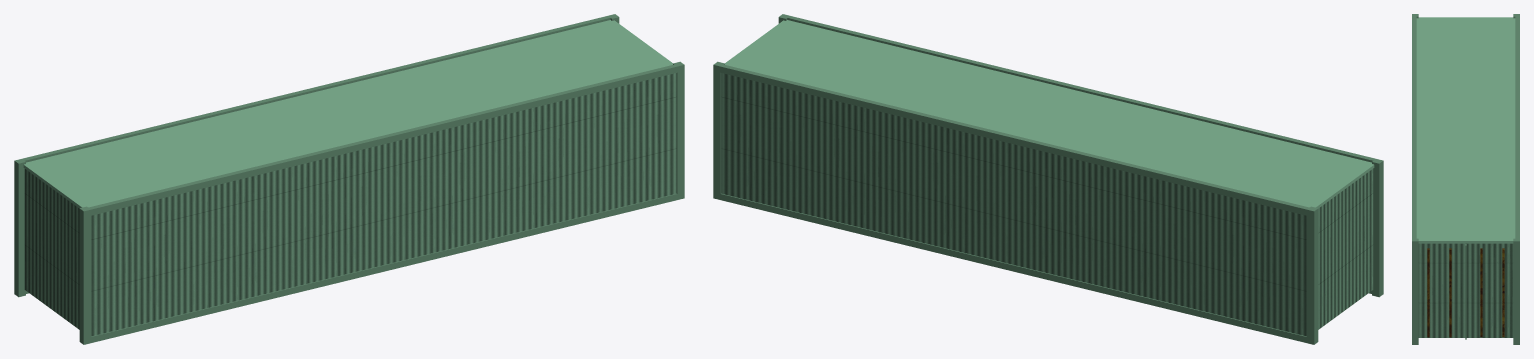
The model's file is iso-40-green.loc-v1.lod0.glb.
The picture shows the model from 3 angles, left to right: view 1: azimuth 30°, elevation 25°; view 2: azimuth 150°, elevation 25°; view 3: azimuth 270°, elevation 25°; orthographic projection. The views are drawn at different scales.
Visible parts, largest first — view 1: iso-40-green; view 2: iso-40-green; view 3: iso-40-green.
Boxes of the visible parts, <box> form: iso-40-green: <box>14,14,684,344</box>; iso-40-green: <box>713,14,1383,344</box>; iso-40-green: <box>1412,14,1519,344</box>.
Bounding box in the file's own units: 12.2 × 2.59 × 2.44.
3 materials, 2 textured.
